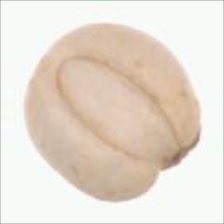L5: (54, 55, 178, 165), (153, 126, 203, 179), (28, 35, 64, 84)
L6: (20, 21, 203, 205)
